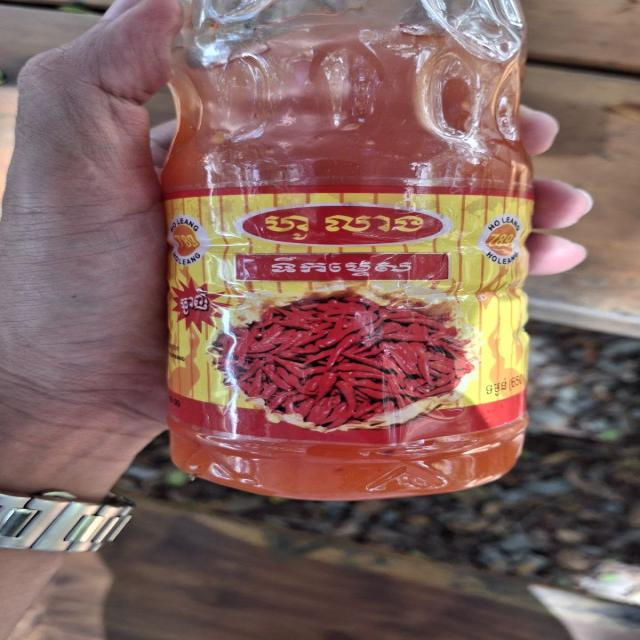1: (242, 204, 451, 244)
Yolov11_80vkh: (242, 250, 435, 292), (162, 279, 220, 330), (467, 374, 511, 402)
